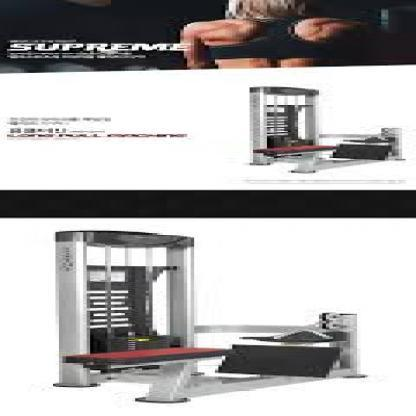Seated Cable Rows: (17, 225, 384, 405), (208, 80, 416, 177)
